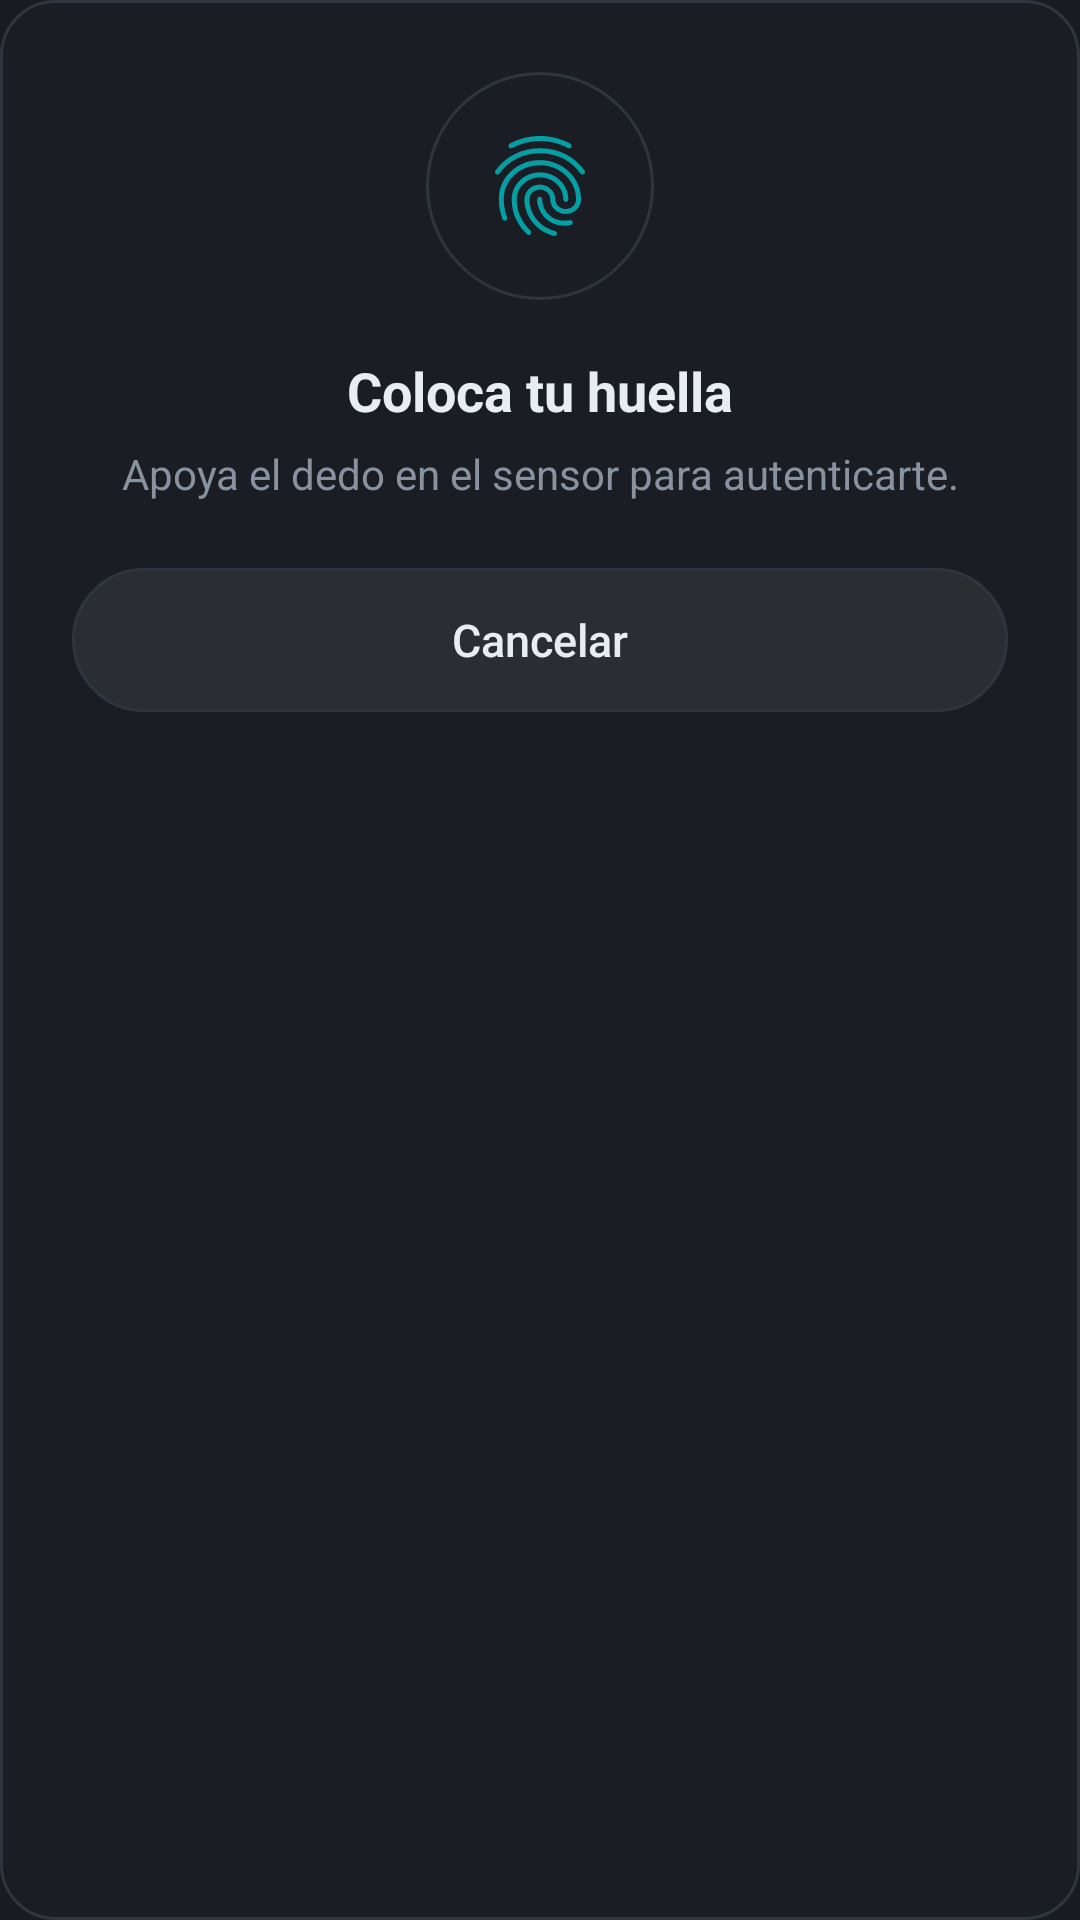

Icon click points for this 1080x1920 phone screenshot, format point (x, y):
Inciar con huella: point (540, 186)
